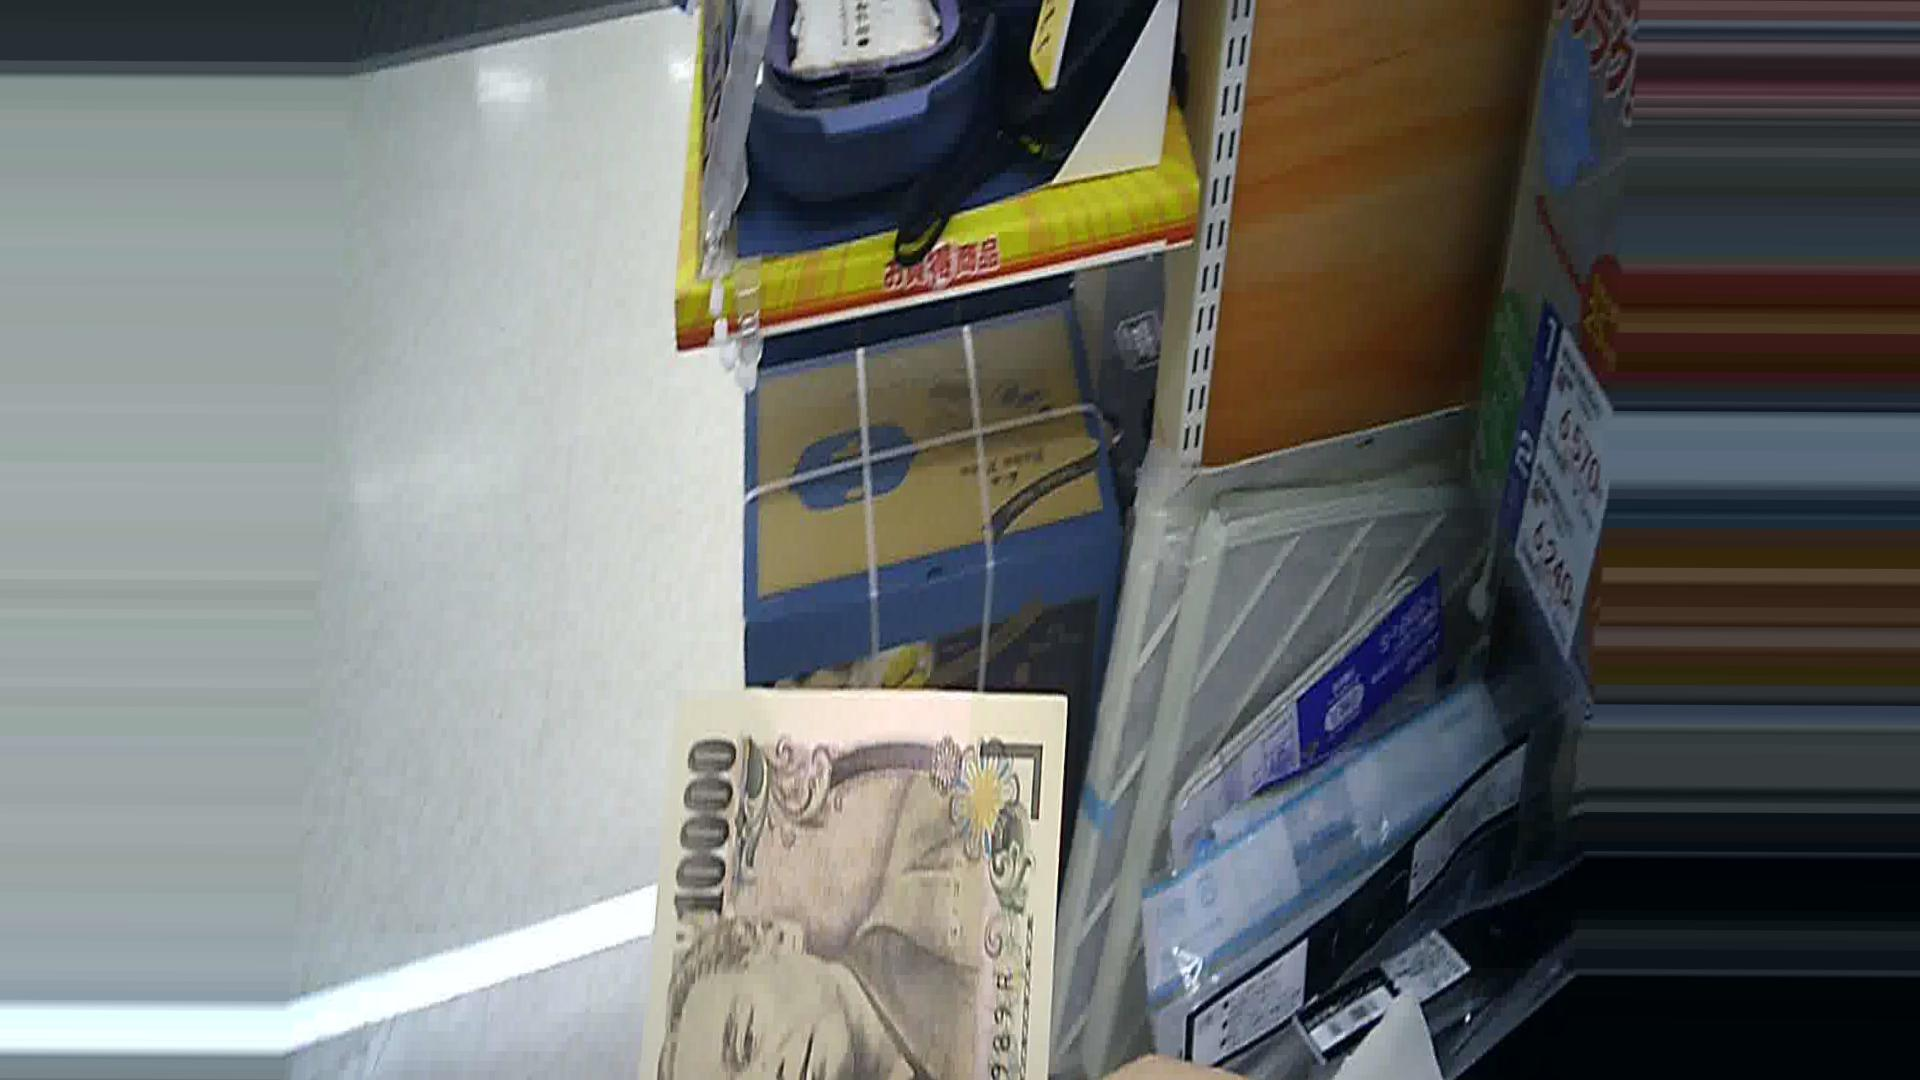10,000 Yen: (641, 661, 1072, 1079)
